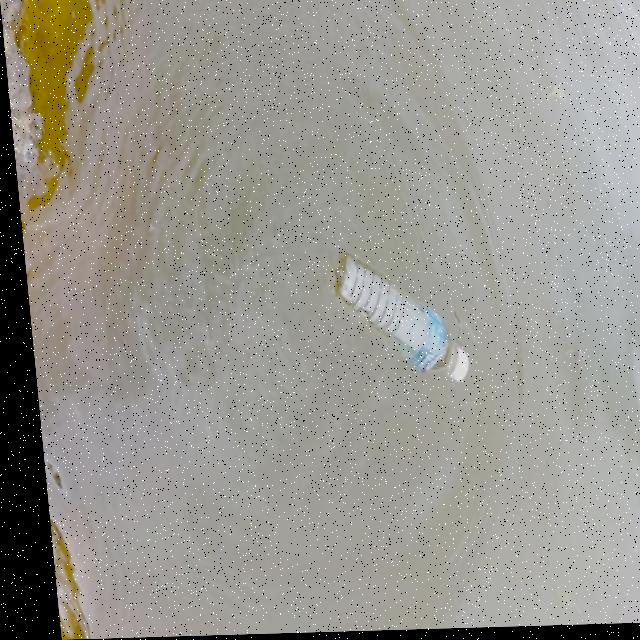waterbottle: (311, 243, 508, 399)
